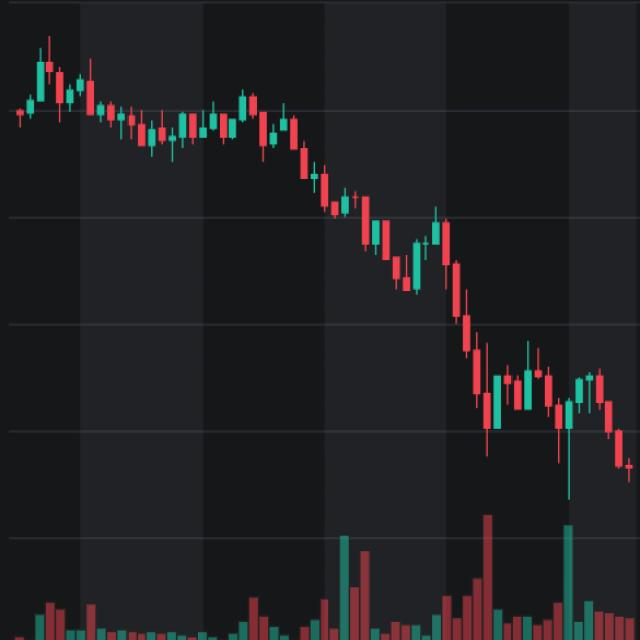Support-breakout: (127, 81, 497, 445)
